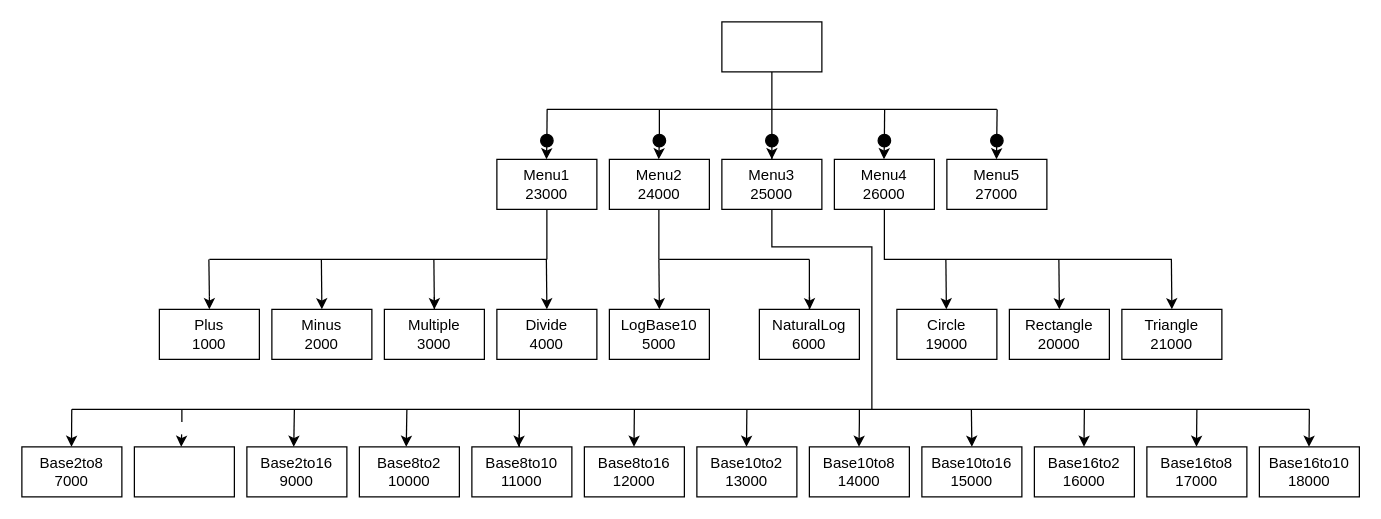
Some shapes in this 1381 by 519 pixel diagram are drawn without their labels. The centre of each missing label's shape, as x and y in pixels:
"Base2to10 8000" belongs at (183,471).
"Control 0000" belongs at (771,46).
